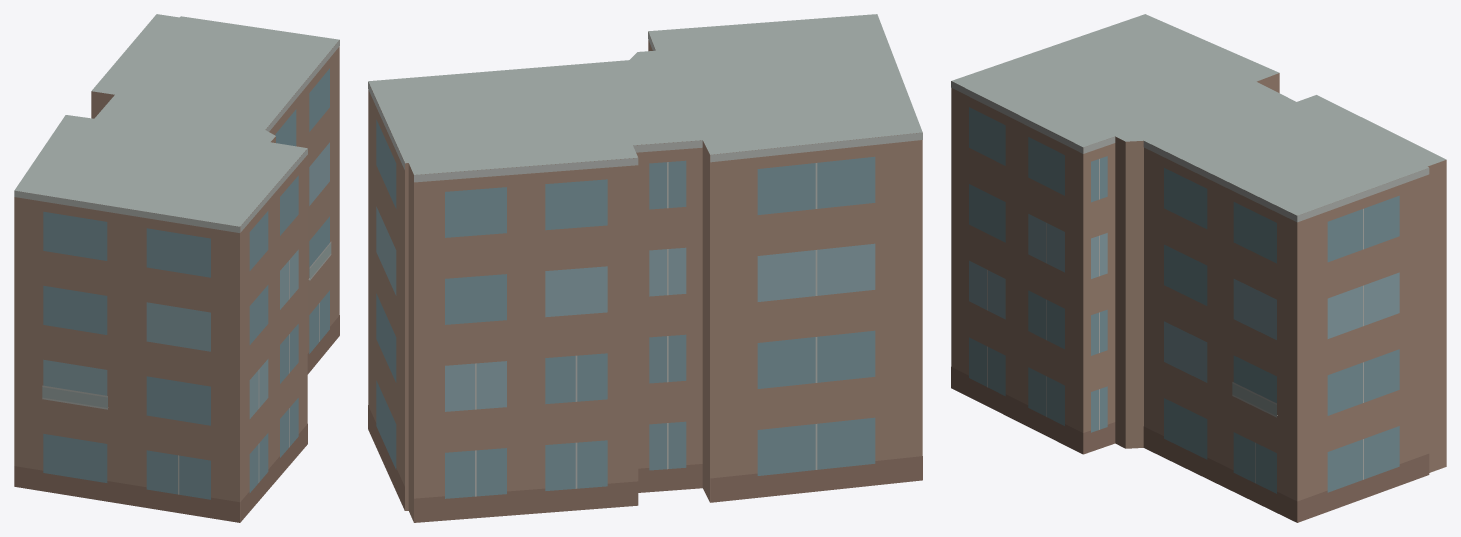
The model's file is survey-upis-32951006.glb.
The picture shows the model from 3 angles, left to right: view 1: azimuth 30°, elevation 25°; view 2: azimuth 150°, elevation 25°; view 3: azimuth 270°, elevation 25°; orthographic projection. The views are drawn at different scales.
Visible parts, largest first — view 1: survey-upis-32951006.tmp; view 2: survey-upis-32951006.tmp; view 3: survey-upis-32951006.tmp.
Part boxes in pixels (x1,y1,x2,y2): survey-upis-32951006.tmp: [14, 14, 339, 522]; survey-upis-32951006.tmp: [368, 14, 922, 522]; survey-upis-32951006.tmp: [951, 14, 1446, 522].
Size of the model in its own units: 15.9 by 11.28 by 16.51.
